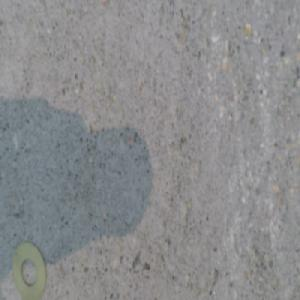Washer: (11, 242, 47, 296)
